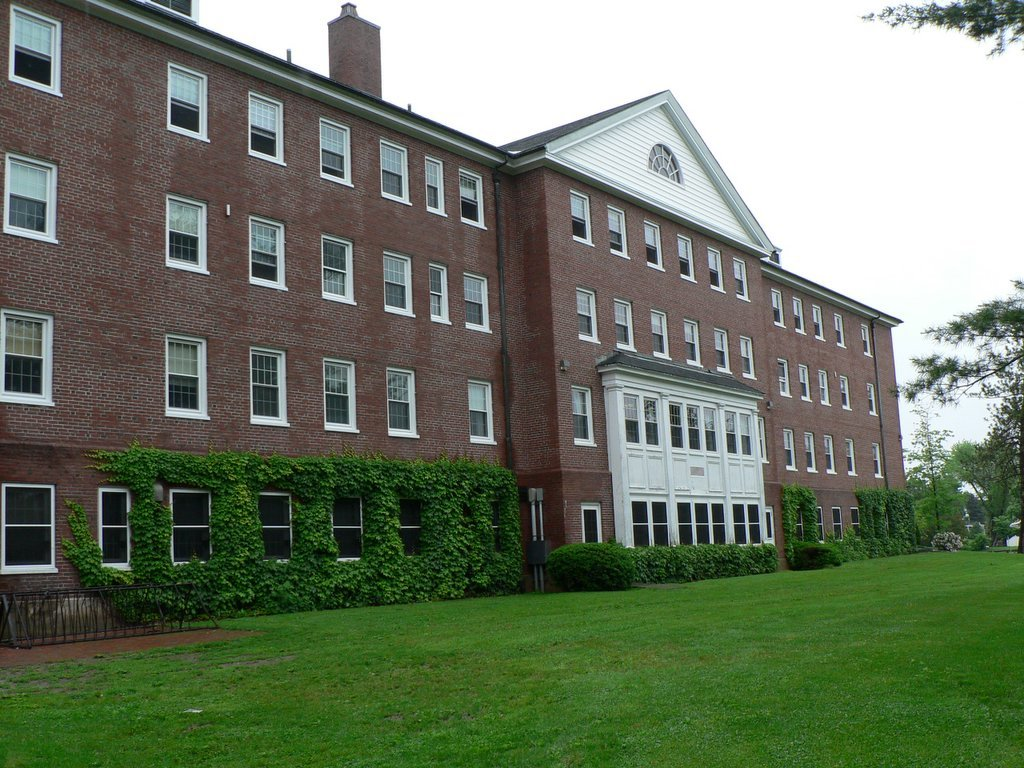Tree: (886, 276, 1024, 553), (846, 0, 1024, 59)
